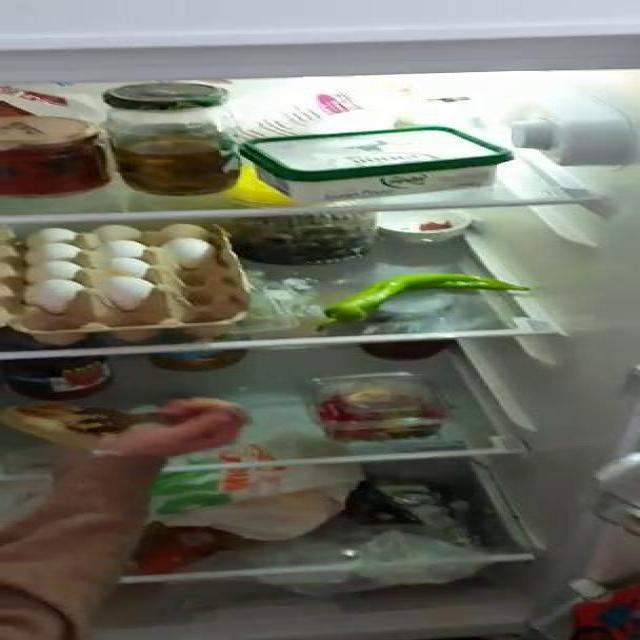cream cheese: (259, 133, 500, 199)
eggs: (32, 226, 211, 309)
green chilies: (318, 276, 517, 327)
olives: (231, 227, 370, 260)
